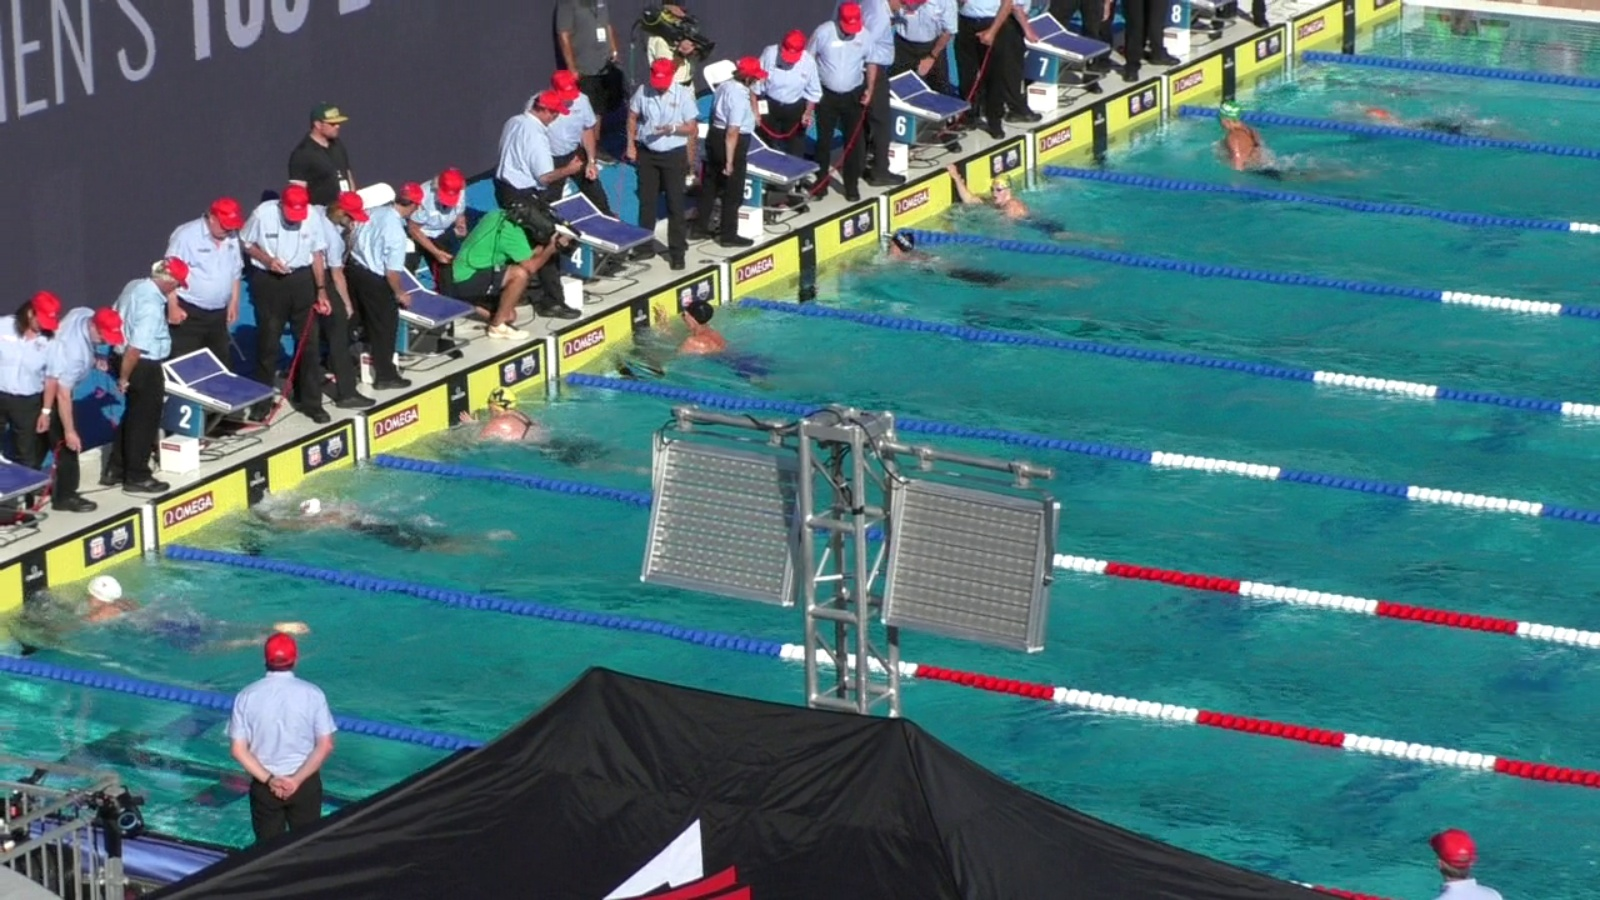swimmerw: (59, 576, 318, 655), (249, 491, 505, 556), (455, 388, 645, 471), (873, 227, 1078, 301), (949, 163, 1115, 252), (646, 295, 795, 391), (1214, 96, 1362, 187), (1334, 91, 1527, 143)
